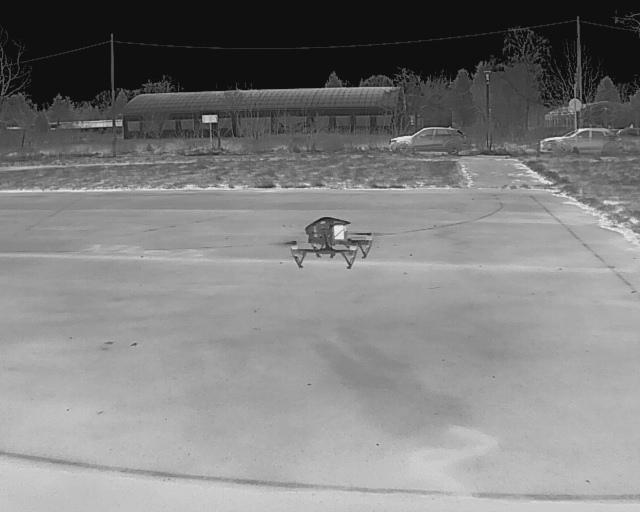drone: (260, 202, 390, 282)
